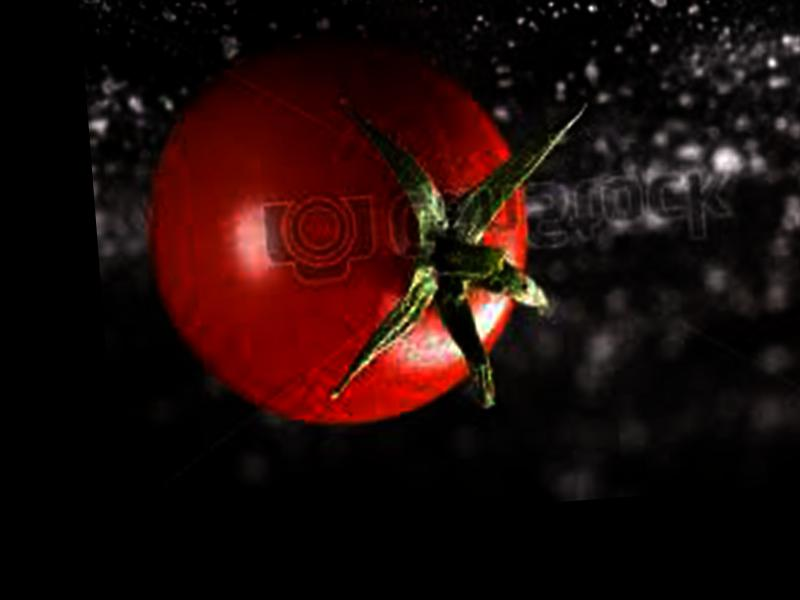Tomato: (135, 27, 542, 439)
